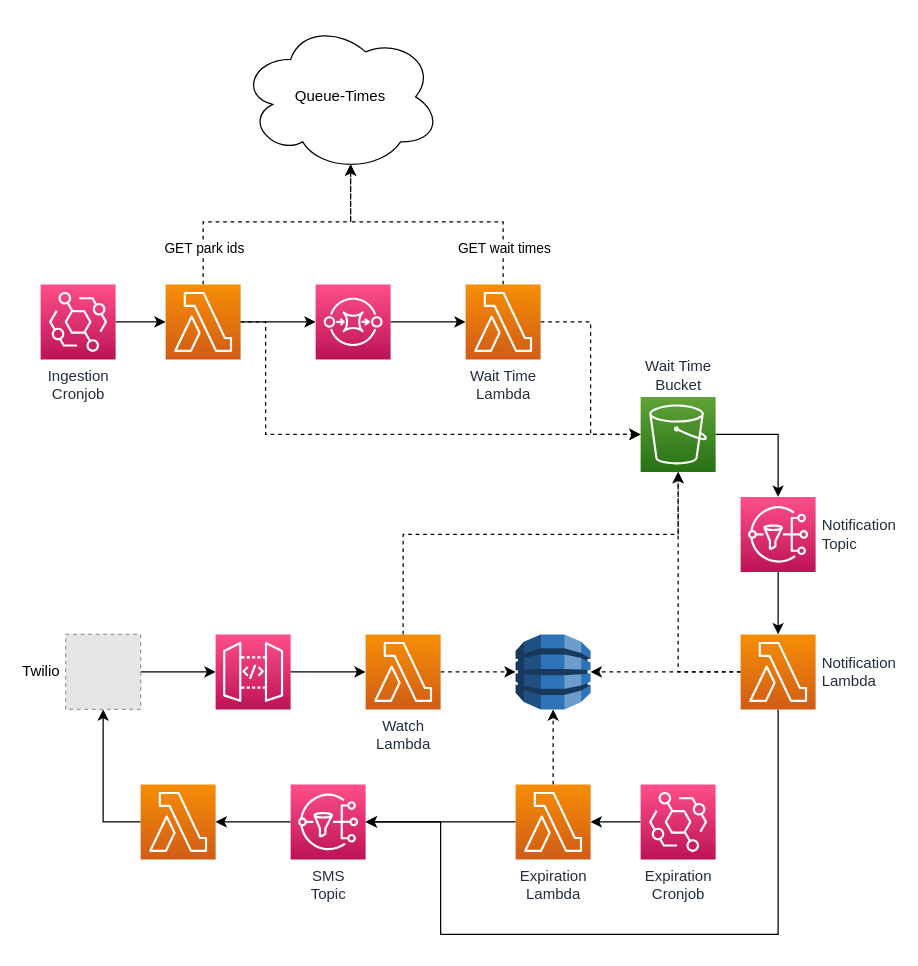
The diagram is 918 pixels wide and 966 high, and some of its shapes have lost their labels. Grey dashed boxes stand in for pictures. Each missing label, with the centre of its shape:
"API Endpoint" belongs at point (252, 671).
"Park ID Lambda" belongs at point (202, 321).
"Park ID Queue" belongs at point (352, 321).
"SMS Lambda" belongs at point (177, 821).
"Watch Table" belongs at point (552, 671).
